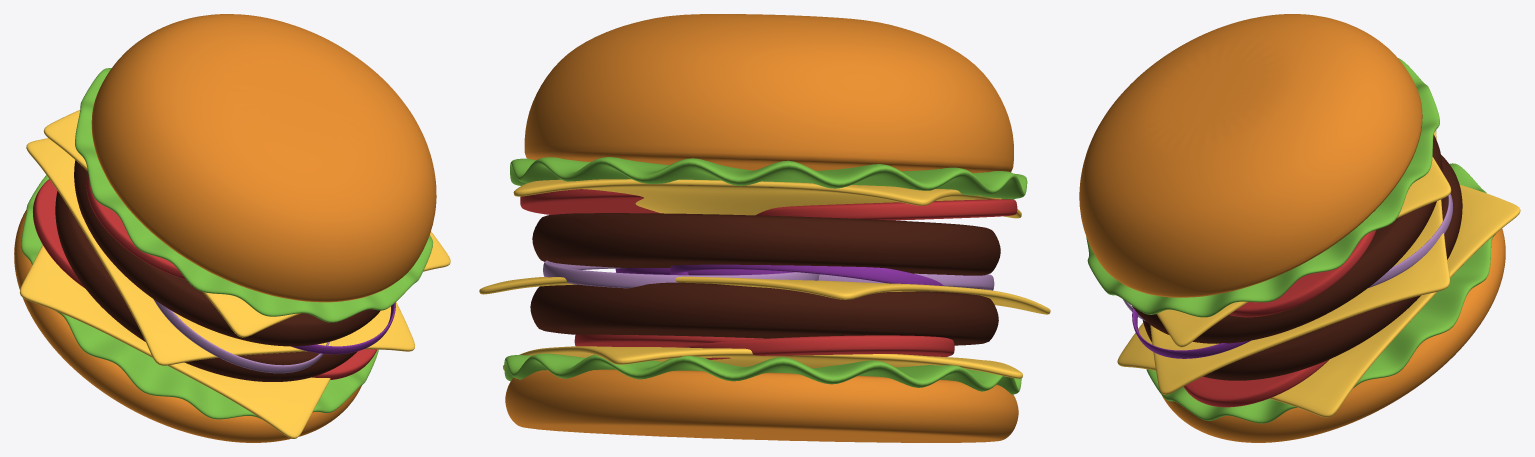
File: Sketchfab_2024_04_14_21_00_21.fbx
3 renders of one model, left to right at view 1: azimuth 30°, elevation 25°; view 2: azimuth 150°, elevation 25°; view 3: azimuth 270°, elevation 25°, orthographic. The views are drawn at different scales.
Visible parts, largest first — view 1: 柱体.004, 平面.001, 平面, 柱体.003, 柱体.016, 柱体.013, 柱体.007, 柱体.006, 平面.002, 柱体.005, 柱体.010, 柱体.014 (+2 smaller); view 2: 柱体.004, 柱体.003, 柱体.013, 柱体.006, 柱体.016, 平面.002, 柱体.007, 平面, 平面.001, 柱体.005, 柱体.014, 柱体.011 (+5 smaller); view 3: 柱体.004, 柱体.003, 平面, 柱体.016, 平面.001, 柱体.013, 柱体.007, 柱体.006, 平面.002, 柱体.008, 柱体.015, 柱体.012 (+1 smaller).
Part boxes in pixels (x1,y1,x2,y2): 柱体.004: [91, 14, 436, 302]; 平面.001: [26, 138, 414, 365]; 平面: [19, 245, 330, 438]; 柱体.003: [14, 209, 361, 442]; 柱体.016: [75, 68, 433, 322]; 柱体.013: [74, 160, 380, 346]; 柱体.007: [21, 175, 378, 419]; 柱体.006: [55, 191, 357, 381]; 平面.002: [43, 110, 450, 337]; 柱体.005: [33, 179, 85, 288]; 柱体.010: [153, 299, 329, 373]; 柱体.014: [86, 174, 186, 279]; 柱体.004: [524, 14, 1013, 173]; 柱体.003: [505, 369, 1018, 442]; 柱体.013: [532, 213, 1000, 275]; 柱体.006: [530, 282, 998, 345]; 柱体.016: [510, 157, 1027, 199]; 平面.002: [513, 179, 1021, 218]; 柱体.007: [504, 353, 1021, 394]; 平面: [503, 346, 1022, 378]; 平面.001: [479, 276, 1050, 314]; 柱体.005: [683, 335, 954, 359]; 柱体.014: [756, 199, 1017, 220]; 柱体.011: [543, 260, 819, 288]; 柱体.004: [1079, 14, 1422, 297]; 柱体.003: [1162, 228, 1505, 442]; 平面: [1117, 185, 1520, 417]; 柱体.016: [1086, 58, 1439, 317]; 平面.001: [1150, 130, 1450, 394]; 柱体.013: [1132, 134, 1442, 343]; 柱体.007: [1146, 163, 1495, 423]; 柱体.006: [1142, 155, 1462, 380]; 平面.002: [1156, 157, 1451, 347]; 柱体.008: [1183, 359, 1329, 407]; 柱体.015: [1229, 230, 1376, 317]; 柱体.012: [1132, 308, 1250, 358].
Size of the model in its own units: 134 by 123 by 137.
